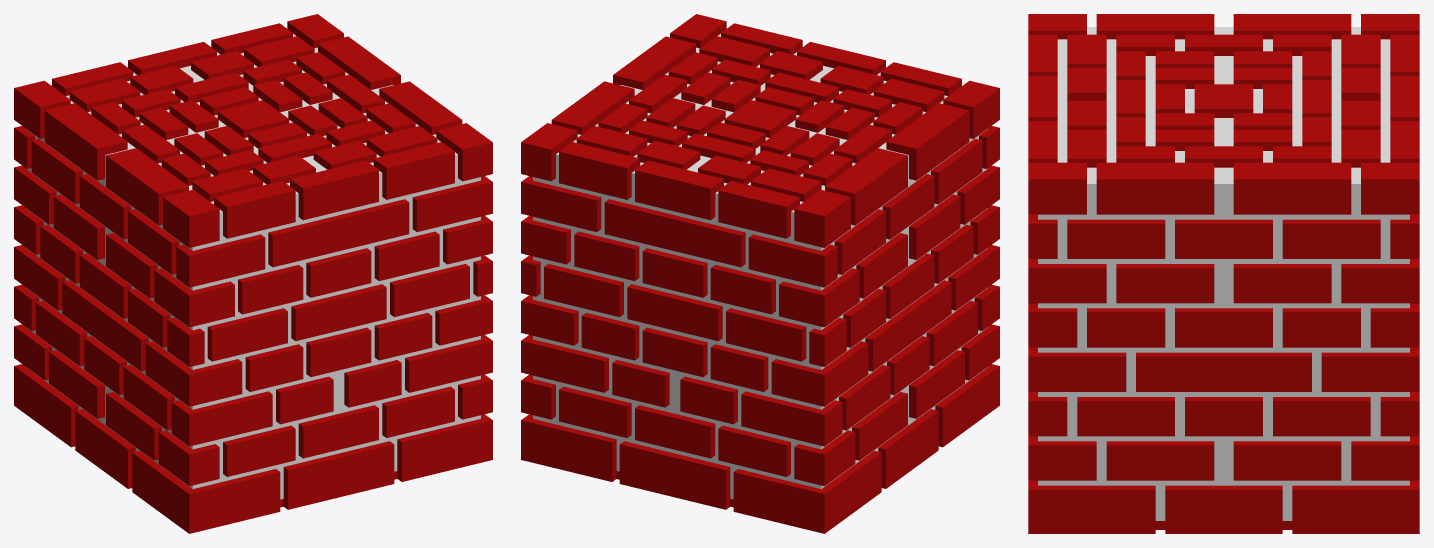
Rendered from BrickWallBlock.obj.
3 renders of one model, left to right at view 1: azimuth 30°, elevation 25°; view 2: azimuth 150°, elevation 25°; view 3: azimuth 270°, elevation 25°, orthographic. The views are drawn at different scales.
Size of the model in its own units: 4 by 4 by 4.
